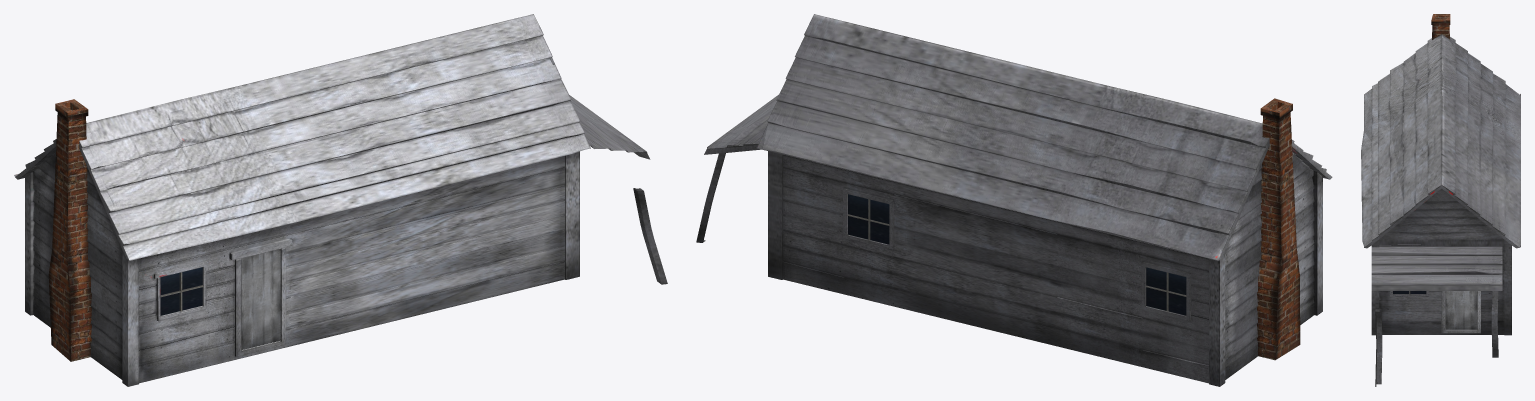
The model's file is GenericHouse.FBX.
3 views of the same model, side by side, from view 1: azimuth 30°, elevation 25°; view 2: azimuth 150°, elevation 25°; view 3: azimuth 270°, elevation 25° (orthographic). The views are drawn at different scales.
Parts seen in each view (by area): view 1: JenkinslHouseNorthLoPoly, Chimney, Door, Window1, JenkinslHouseNorthLoPoly001, PorchPillar001; view 2: JenkinslHouseNorthLoPoly, Chimney, Window003, JenkinslHouseNorthLoPoly001, Window2, PorchPillar; view 3: JenkinslHouseNorthLoPoly, JenkinslHouseNorthLoPoly001, Door003, PorchPillar001, PorchPillar, Chimney.
Part boxes in pixels (x1=…): JenkinslHouseNorthLoPoly: x1=14, y1=14, x2=590, y2=386; Chimney: x1=48, y1=99, x2=91, y2=361; Door: x1=241, y1=249, x2=280, y2=349; Window1: x1=160, y1=267, x2=203, y2=315; JenkinslHouseNorthLoPoly001: x1=543, y1=95, x2=650, y2=159; PorchPillar001: x1=633, y1=188, x2=667, y2=284; JenkinslHouseNorthLoPoly: x1=756, y1=14, x2=1332, y2=386; Chimney: x1=1257, y1=98, x2=1300, y2=360; Window003: x1=847, y1=194, x2=889, y2=244; JenkinslHouseNorthLoPoly001: x1=704, y1=94, x2=778, y2=154; Window2: x1=1145, y1=267, x2=1186, y2=315; PorchPillar: x1=696, y1=153, x2=725, y2=242; JenkinslHouseNorthLoPoly: x1=1361, y1=34, x2=1520, y2=335; JenkinslHouseNorthLoPoly001: x1=1371, y1=227, x2=1502, y2=290; Door003: x1=1445, y1=291, x2=1477, y2=329; PorchPillar001: x1=1375, y1=309, x2=1382, y2=386; PorchPillar: x1=1491, y1=291, x2=1498, y2=357; Chimney: x1=1431, y1=14, x2=1450, y2=39.
Bounding box in the file's own units: 382 × 180 × 139.
